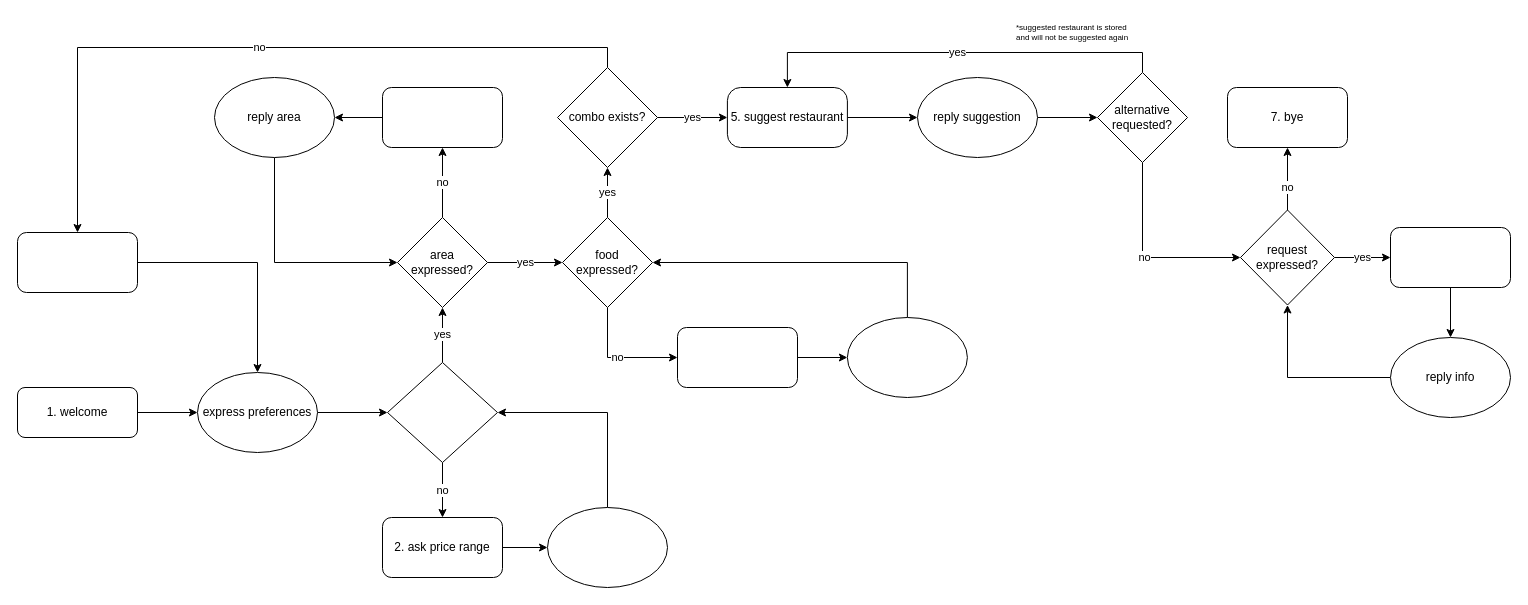
Some shapes in this 1528 by 605 pixel diagram are drawn without their labels. Each missing label, with the box of its shape:
3. ask area: (382, 86, 502, 148)
4. ask food: (676, 326, 798, 388)
6. give info: (1390, 226, 1510, 288)
8. inform no match: (16, 232, 138, 292)
price range expressed?: (386, 362, 498, 462)
reply food: (846, 316, 967, 398)
reply price range: (546, 506, 668, 588)
